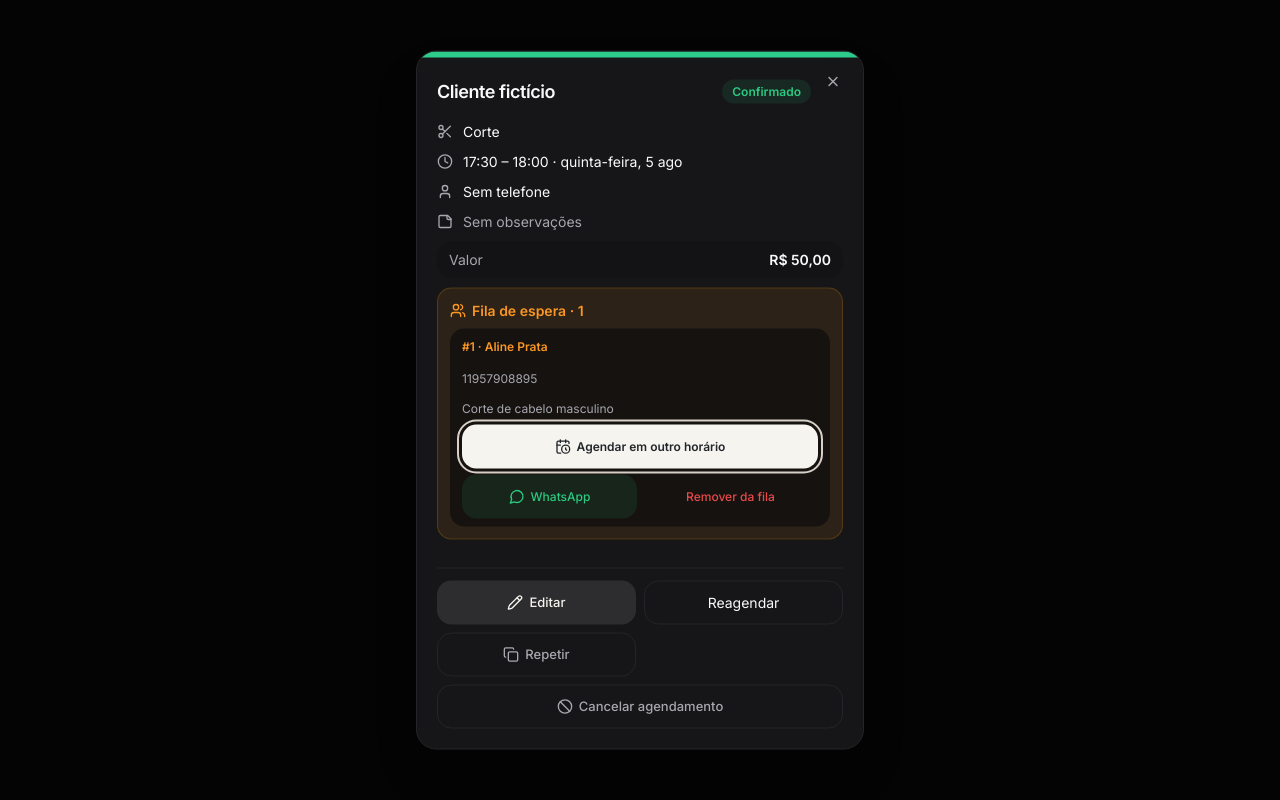
Test case: fila de espera no detalhe do agendamento › erro ao passar o horário mantém o modal aberto com a explicação
Click the button "Cancelar agendamento": (640, 706) x1=437 y1=684 x2=843 y2=728
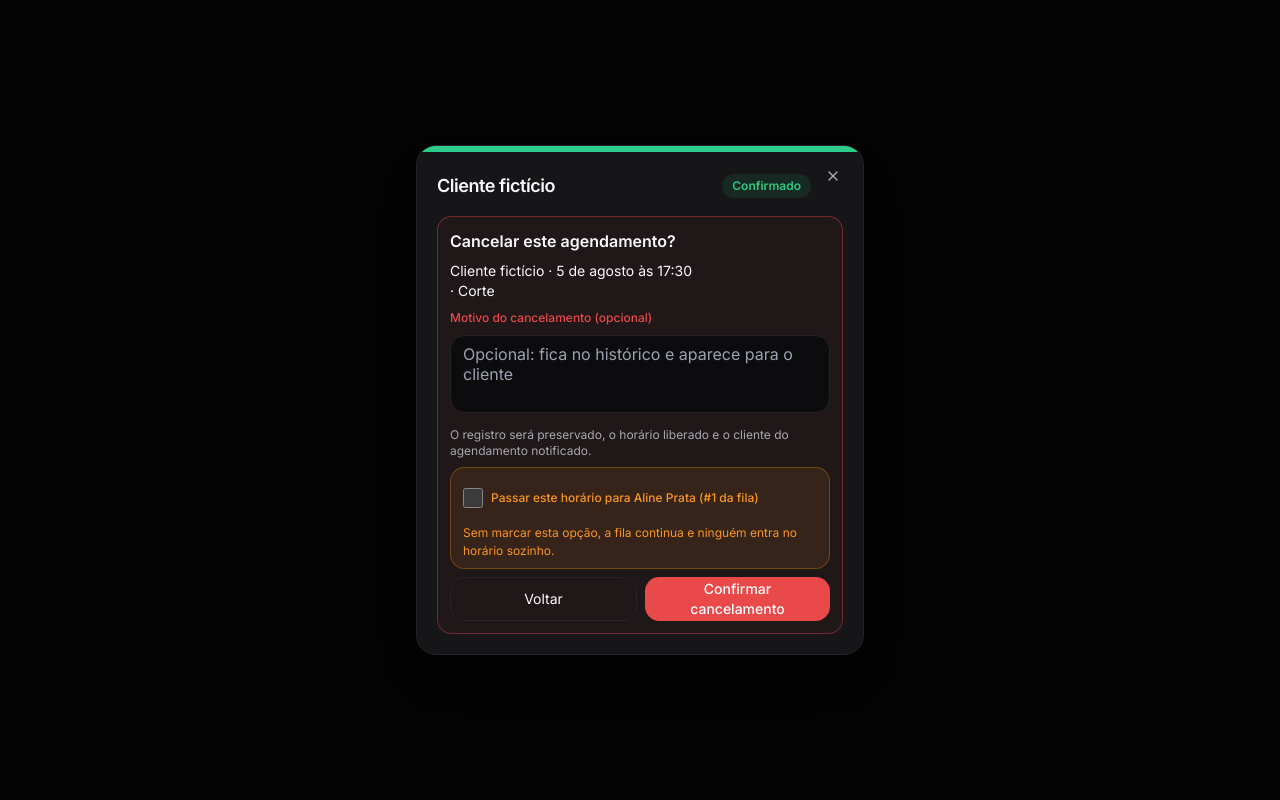
In the text box labelled "Motivo do cancelamento (opcional)": (640, 374) x1=450 y1=335 x2=830 y2=413, type "Cliente desmarcou"
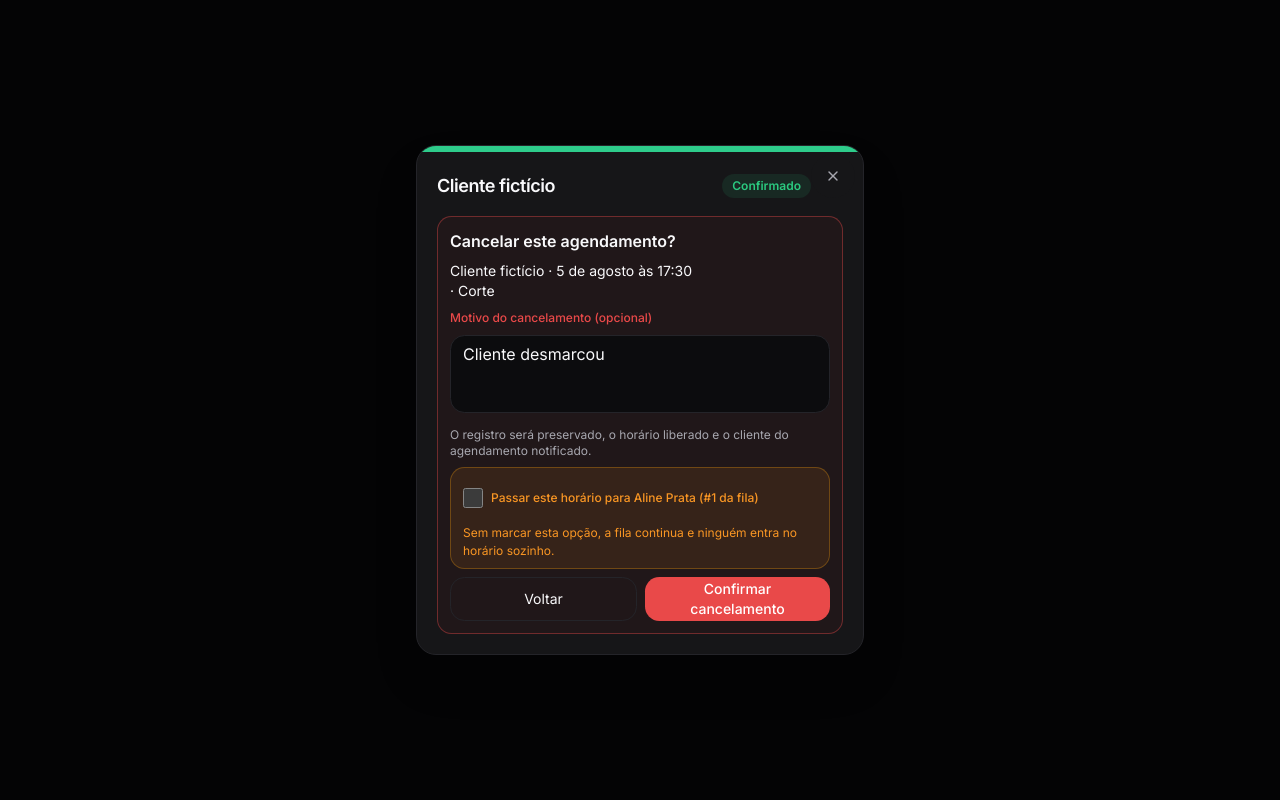
Click the checkbox labelled "Passar este horário para Aline Prata (#1 da fila)": (473, 498) x1=463 y1=488 x2=483 y2=508
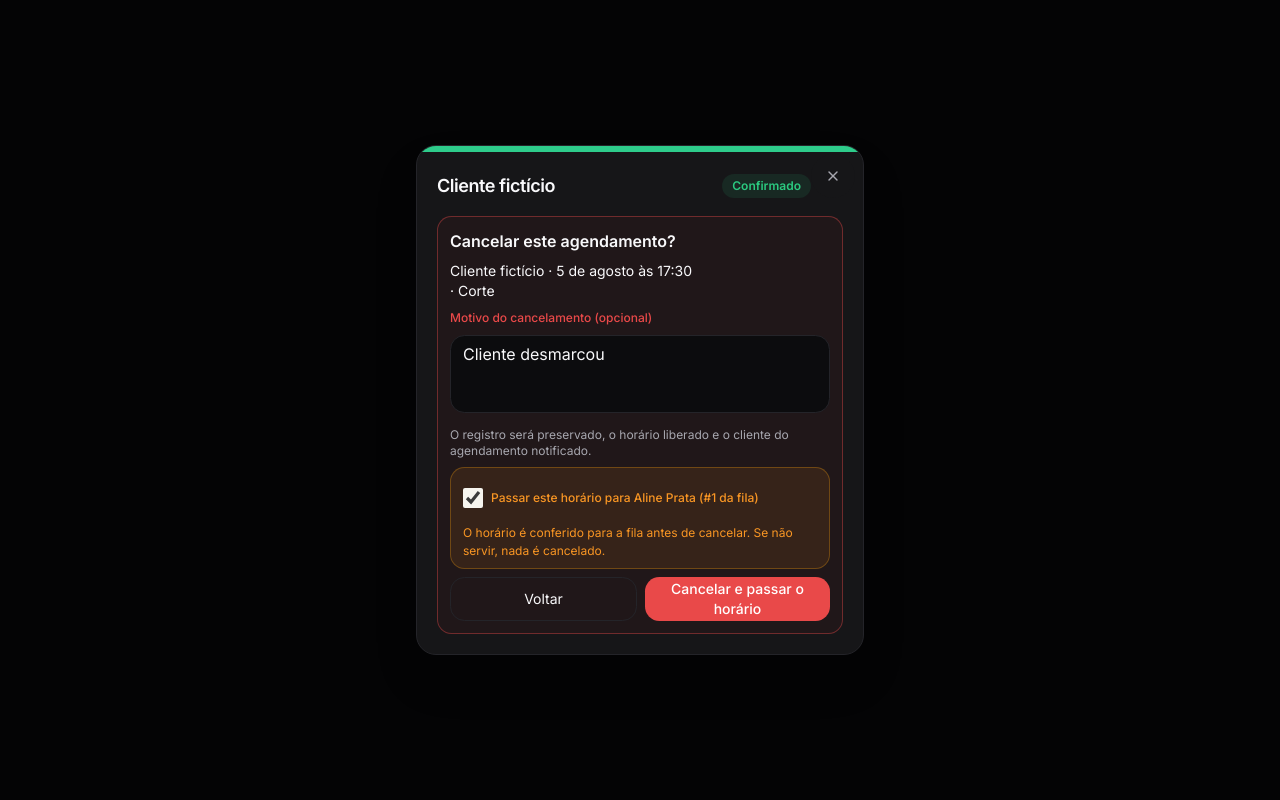
Click the button "Cancelar e passar o horário": (738, 599) x1=645 y1=577 x2=830 y2=621
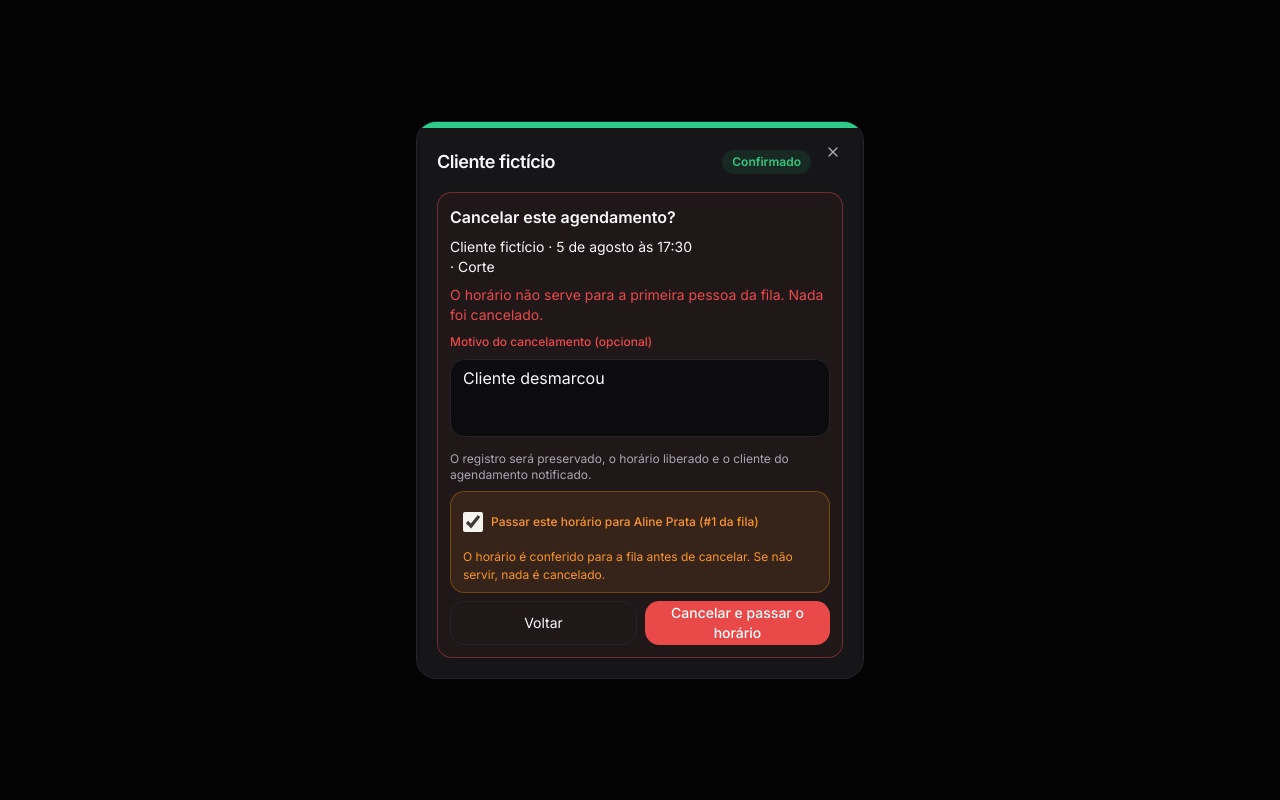
Expected: the message shows "Nada foi cancelado", x1=450 y1=286 x2=823 y2=323
